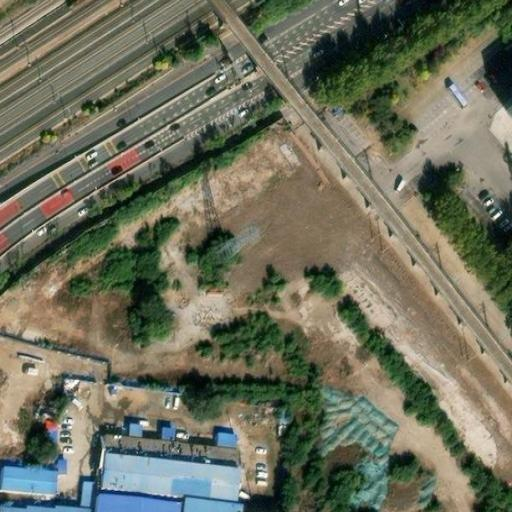building: (94, 461, 235, 512), (98, 425, 237, 475), (0, 464, 53, 495), (76, 479, 96, 509), (40, 413, 60, 441), (213, 432, 233, 451), (55, 457, 62, 473)
